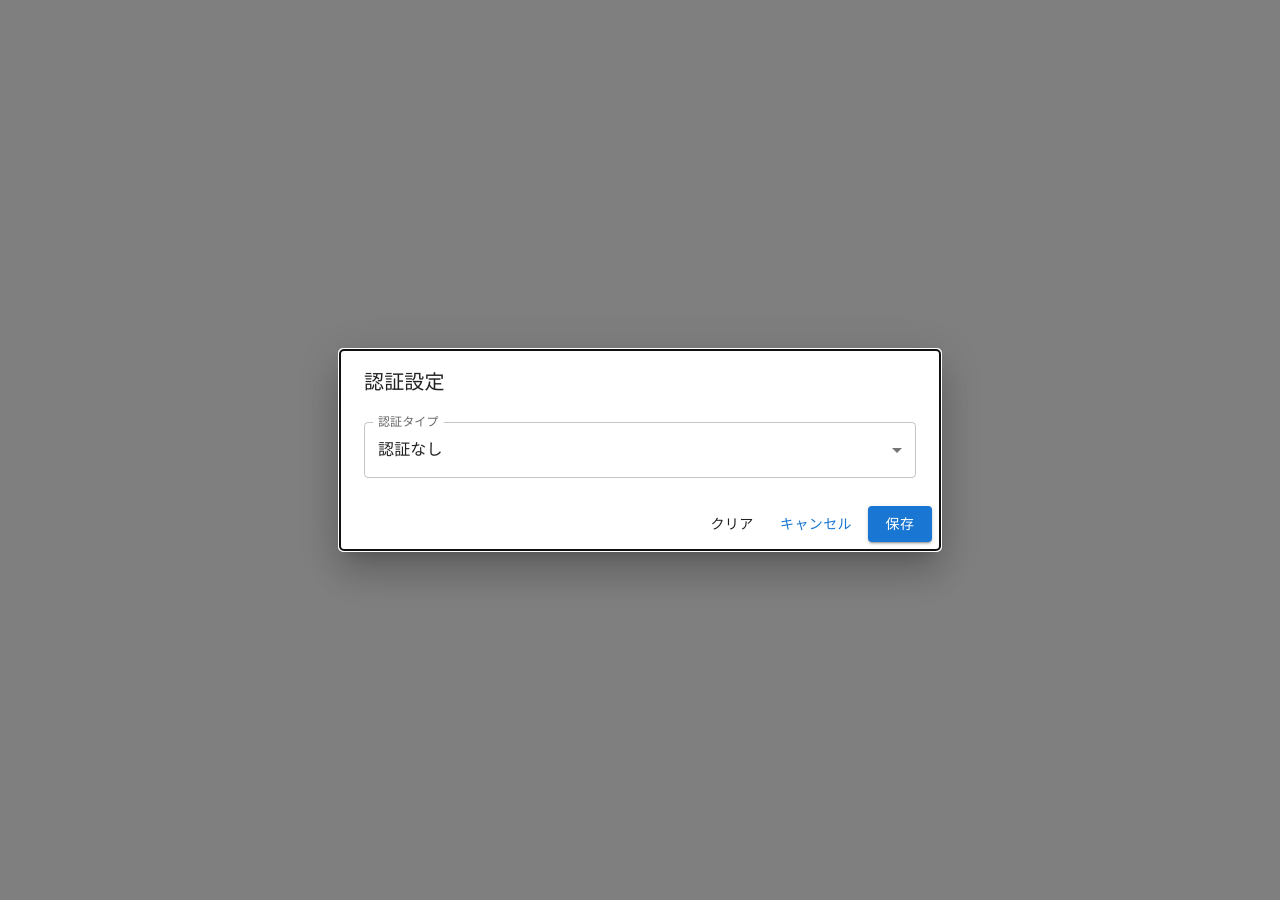
it: AuthSettings + FormAnalyzerPanel 統合 › Task 4.1: フォーム解析パネルの統合 › フォームログイン選択時にフォーム解析パネルが表示される
# 認証タイプでフォームログインを選択
Step 1. Click the dropdown → (410, 450), box [378, 440, 443, 459]
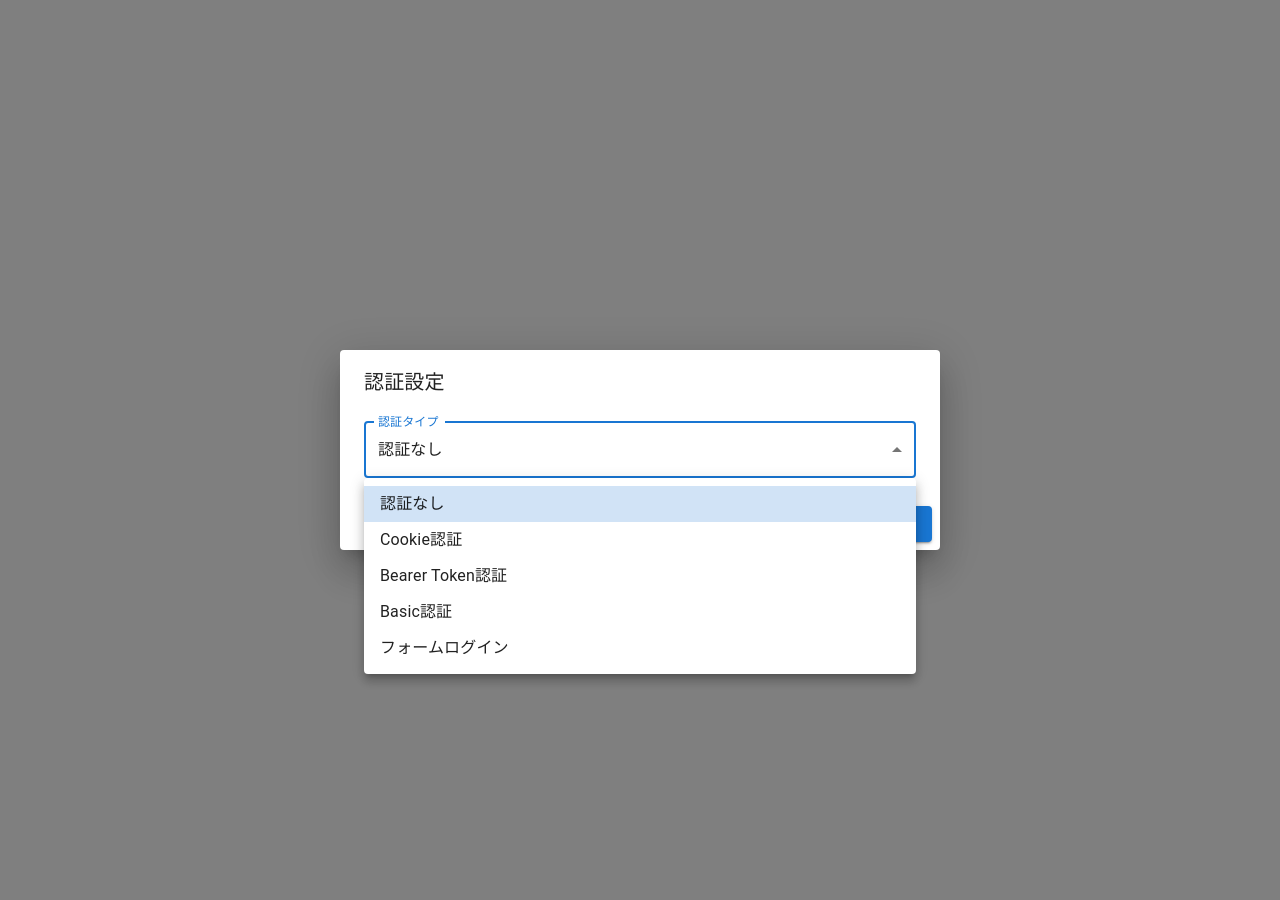
Step 2. Click the option "フォームログイン" → (444, 648), box [380, 638, 509, 657]
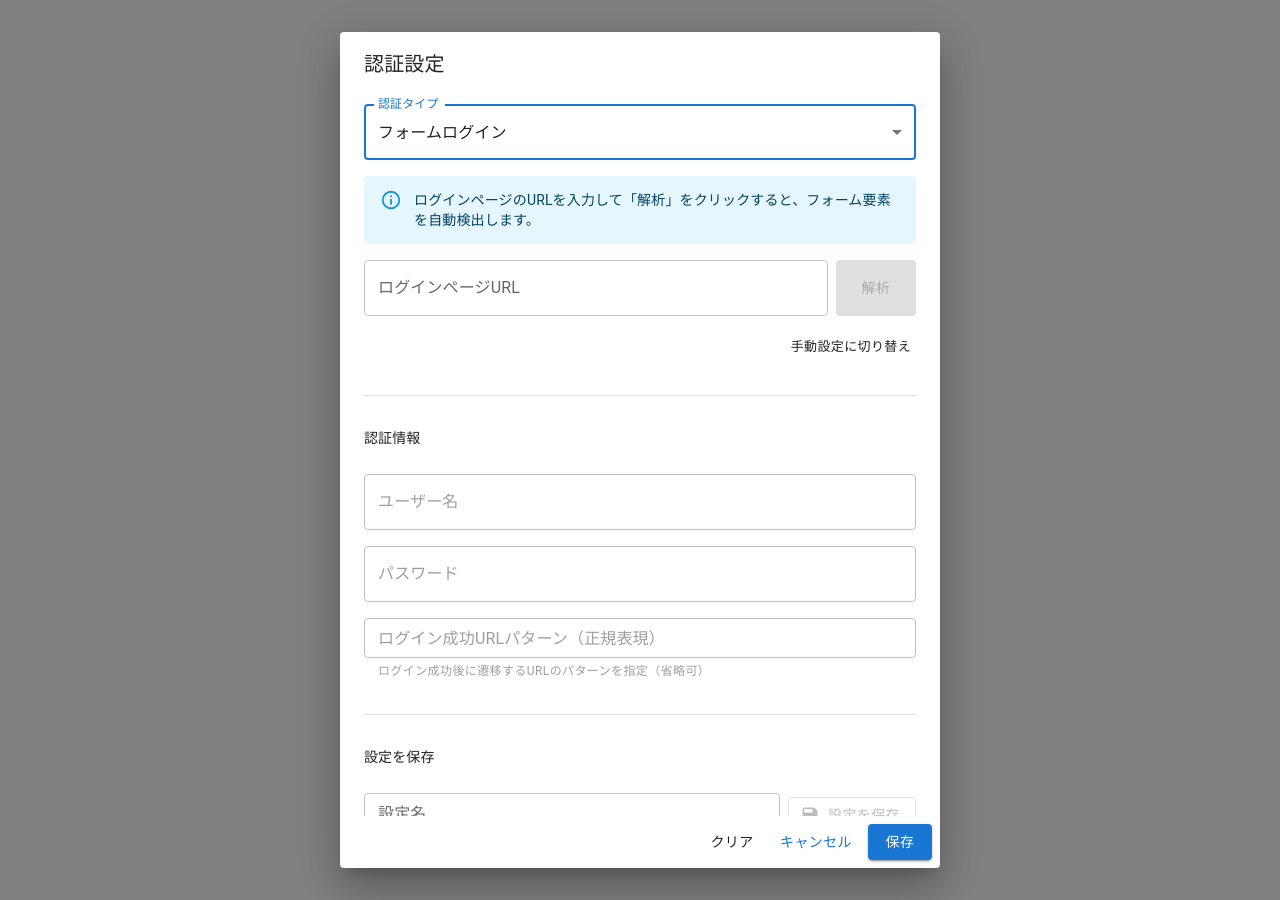
Check: the text "ログインページのURLを入力して「解析」をクリックすると、フォーム要素を自動検出します。" is shown, box [414, 182, 900, 238]
Check: the field with placeholder "https://example.com/login" is shown, box [364, 260, 828, 316]
Check: the button "解析" is shown, box [836, 260, 916, 316]
